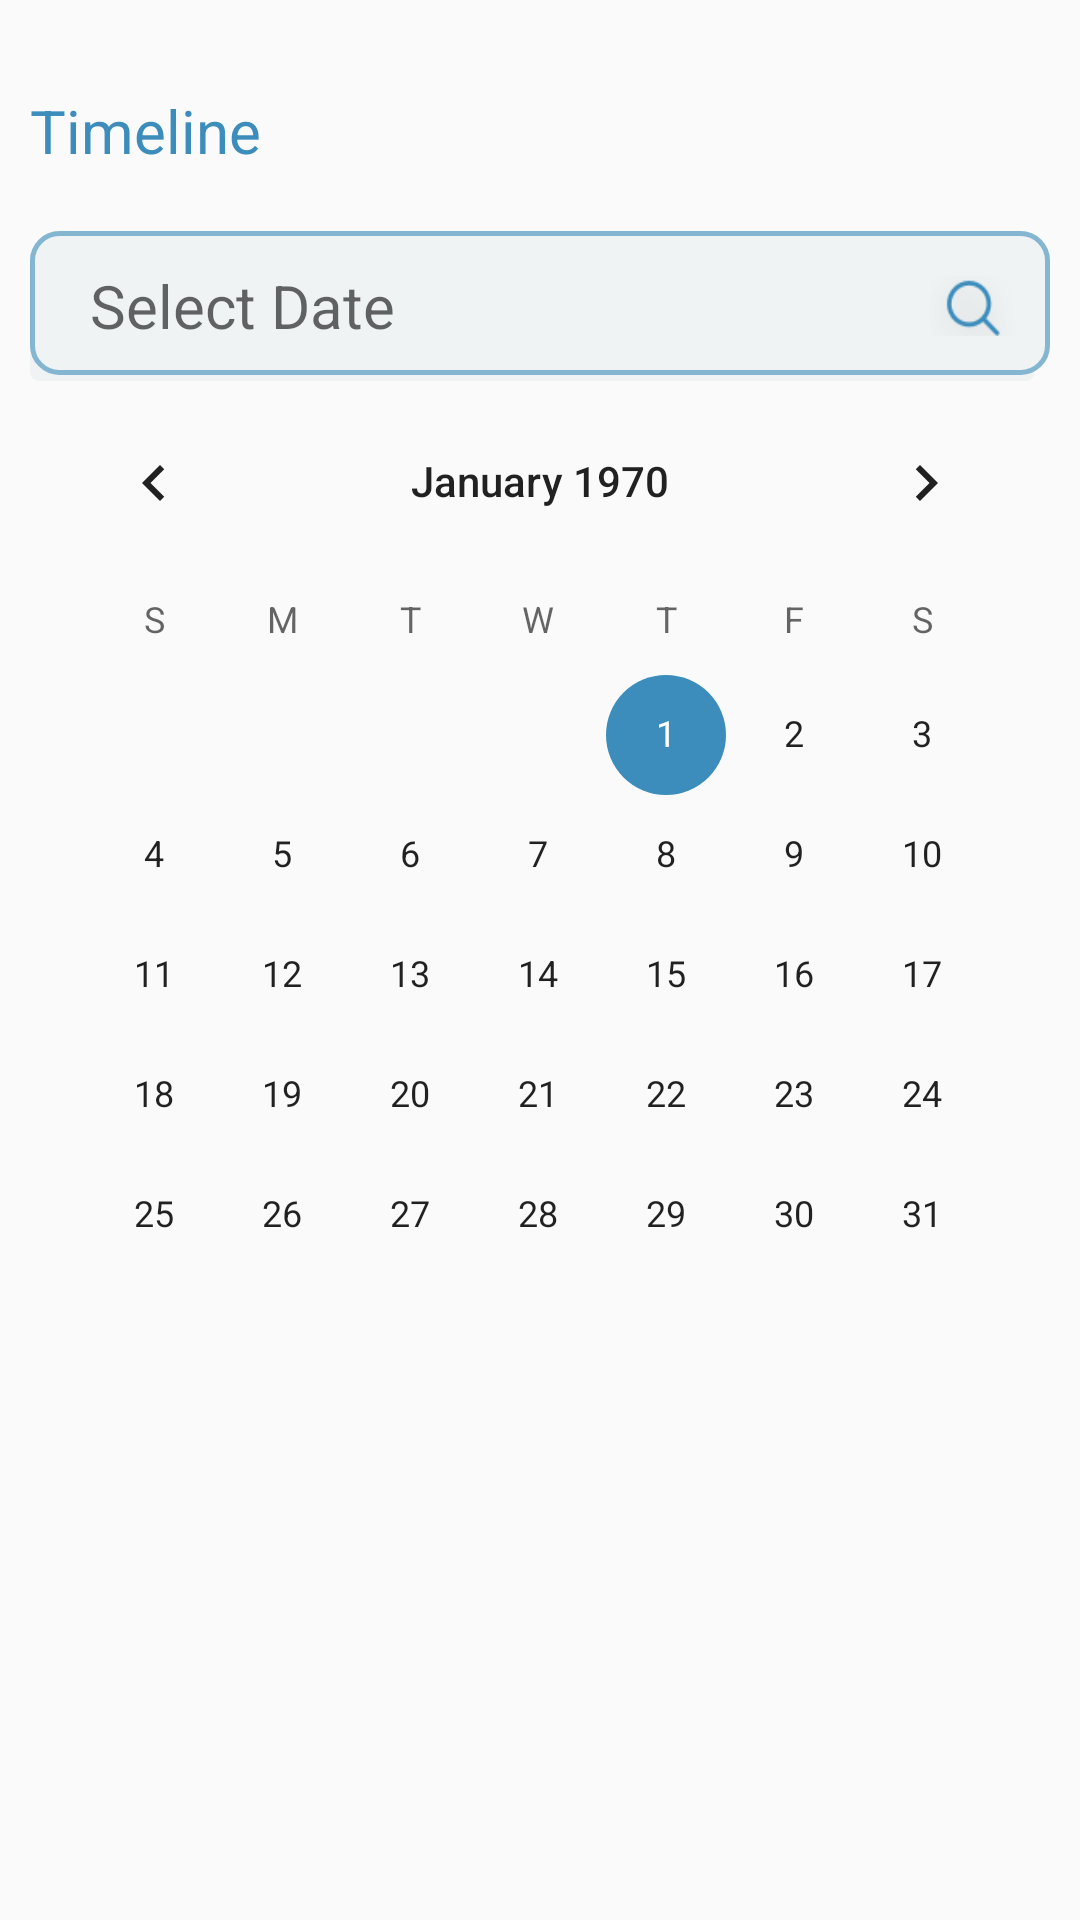

Icons on this 1080x1920 Android screen, each with the point to tap as [x,y]:
search: [973,308]
